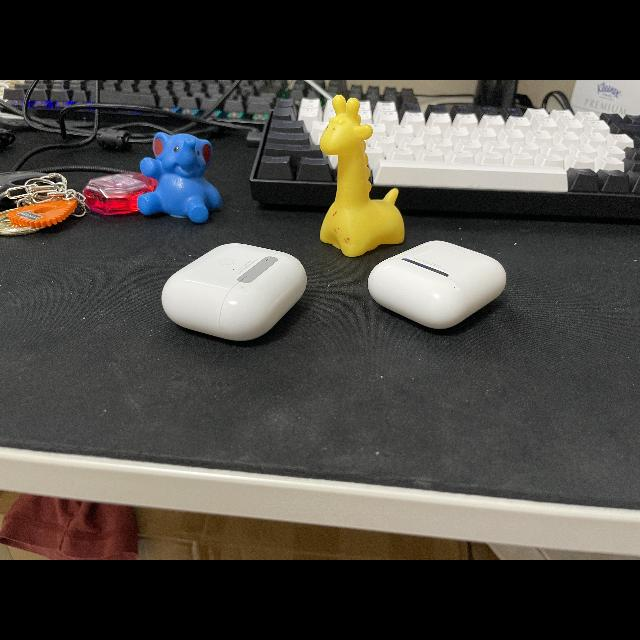airpod2: (353, 224, 514, 330)
airpod3: (150, 230, 312, 344)
